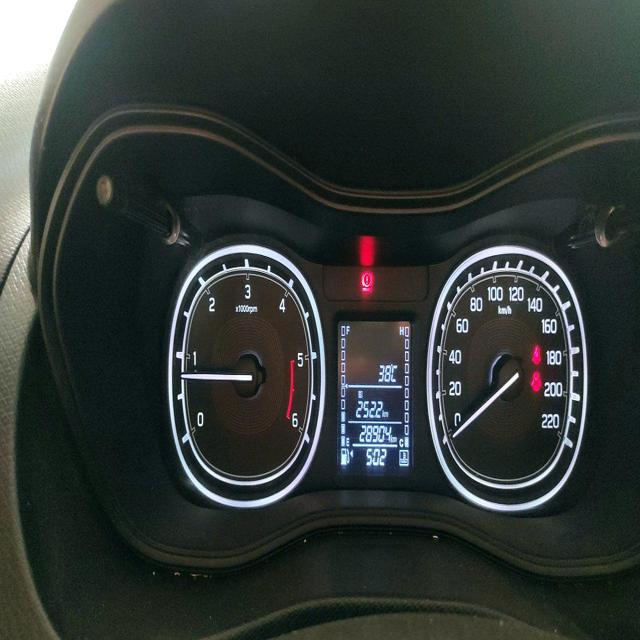odometer: (357, 420, 393, 444)
